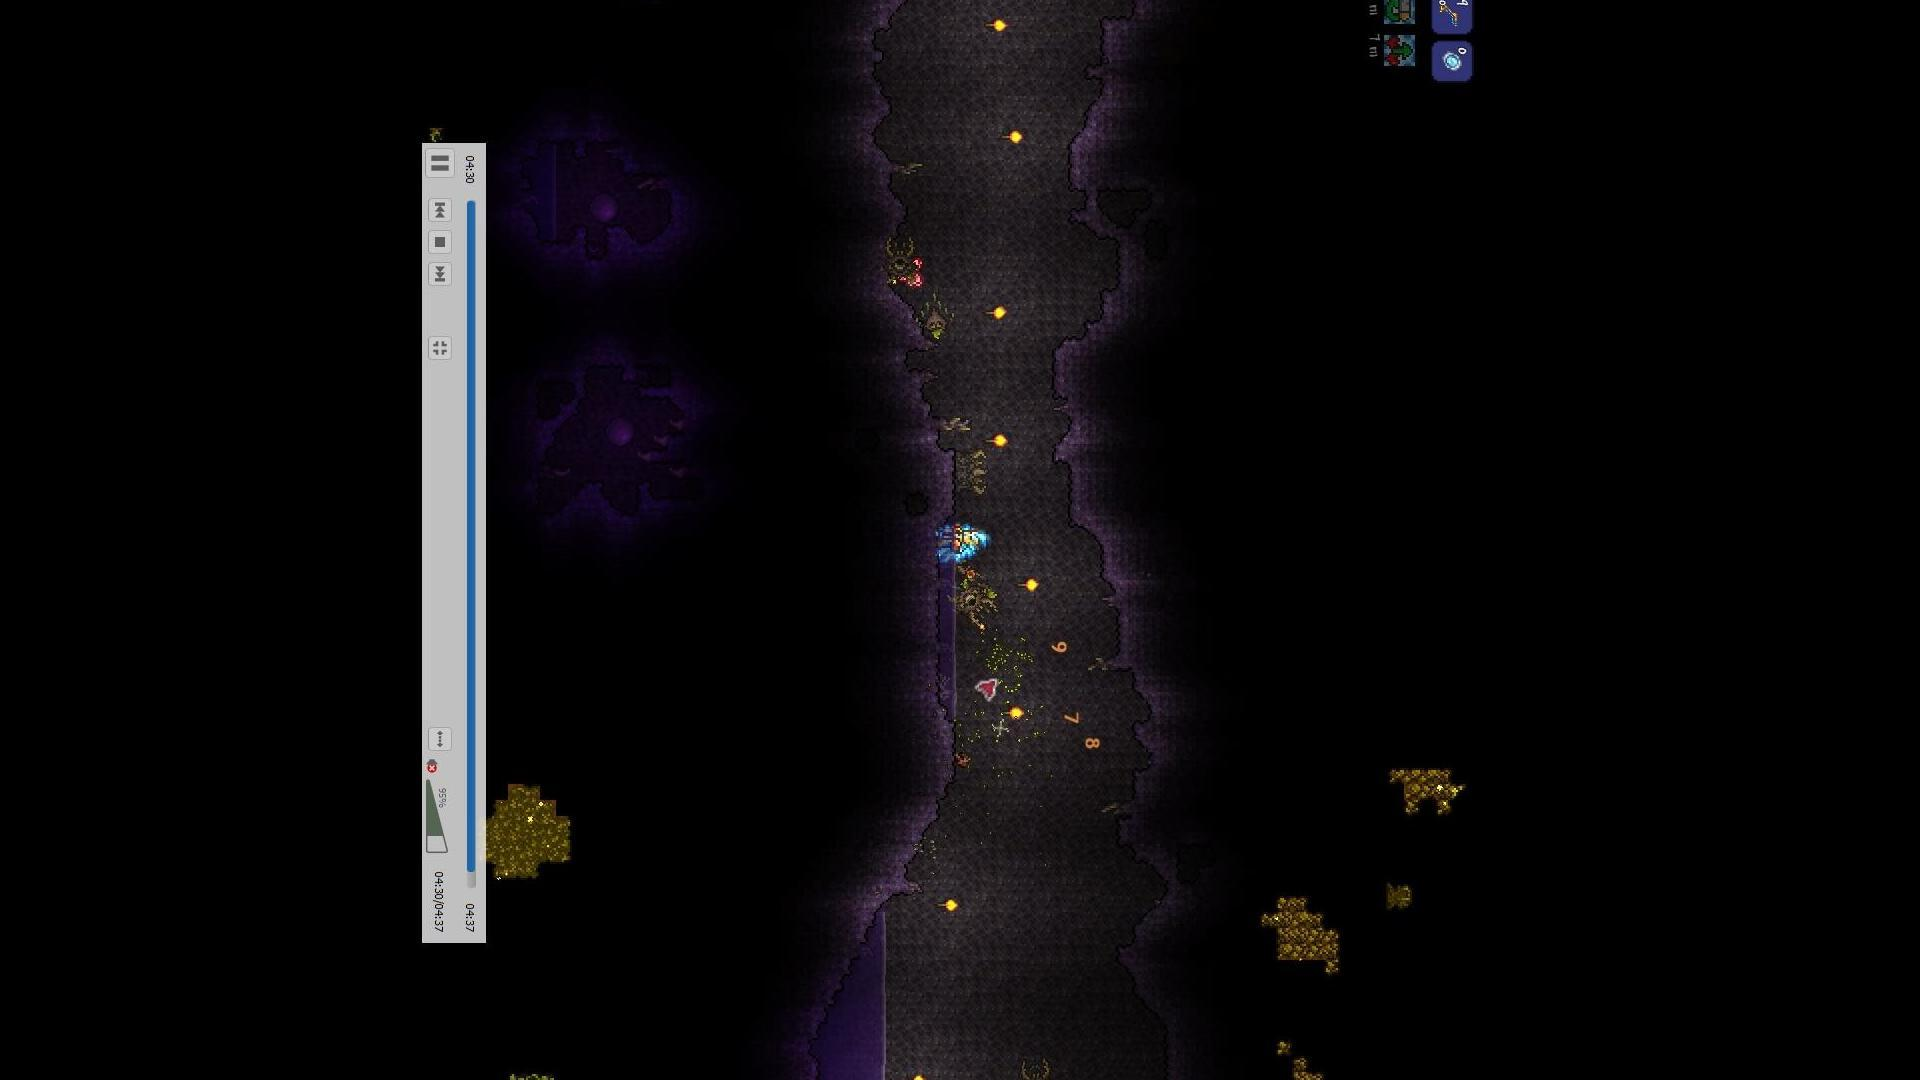crimera: (1018, 1048, 1065, 1080)
